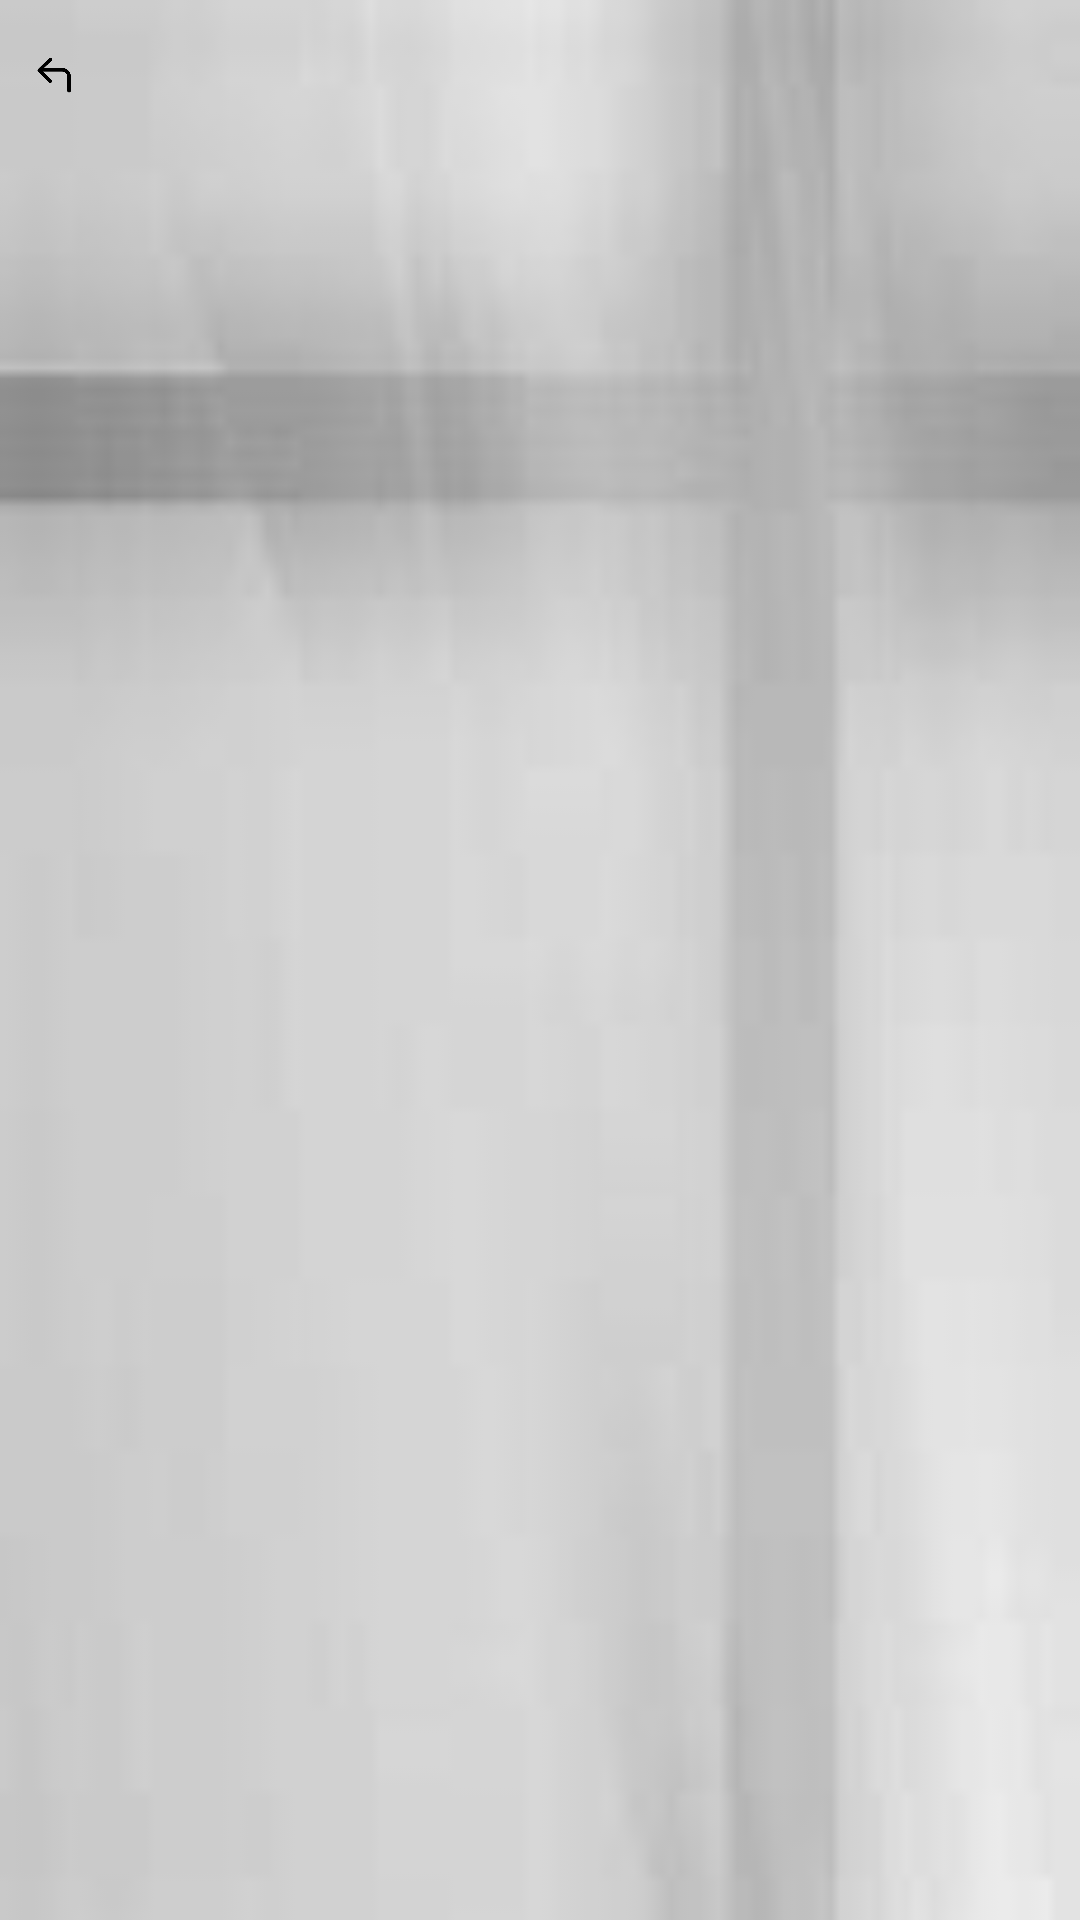

Icon click points for this 1080px x 1920px phone screenshot, format point (x, y):
turn: point (54, 75)
